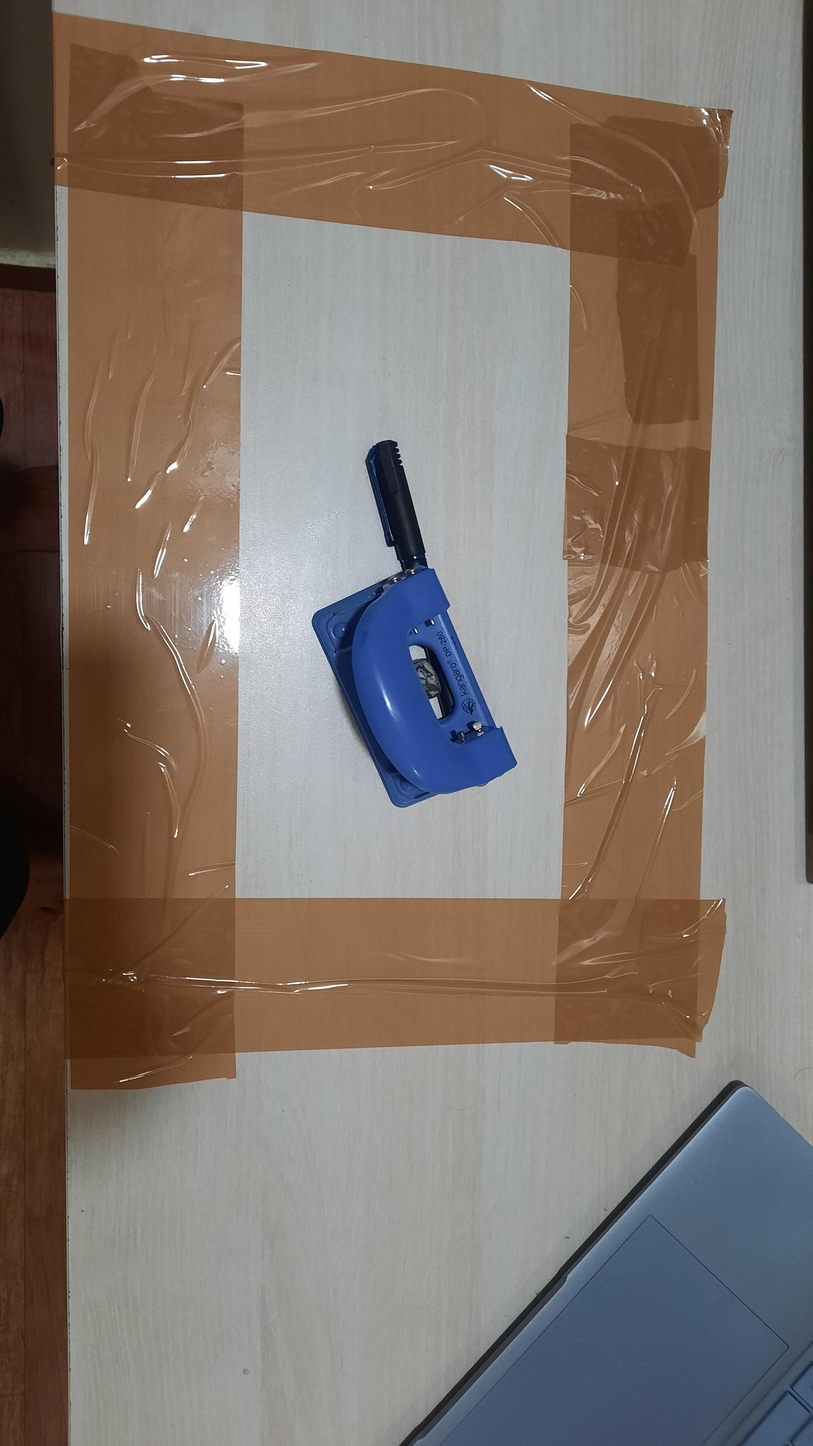Pen: (366, 440, 429, 575)
Punch: (312, 565, 519, 808)
